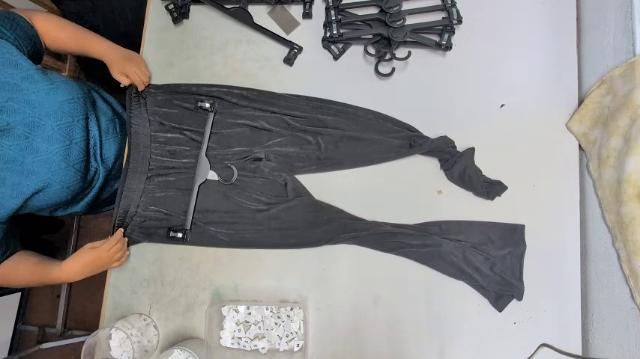new-garment: (113, 84, 525, 311)
